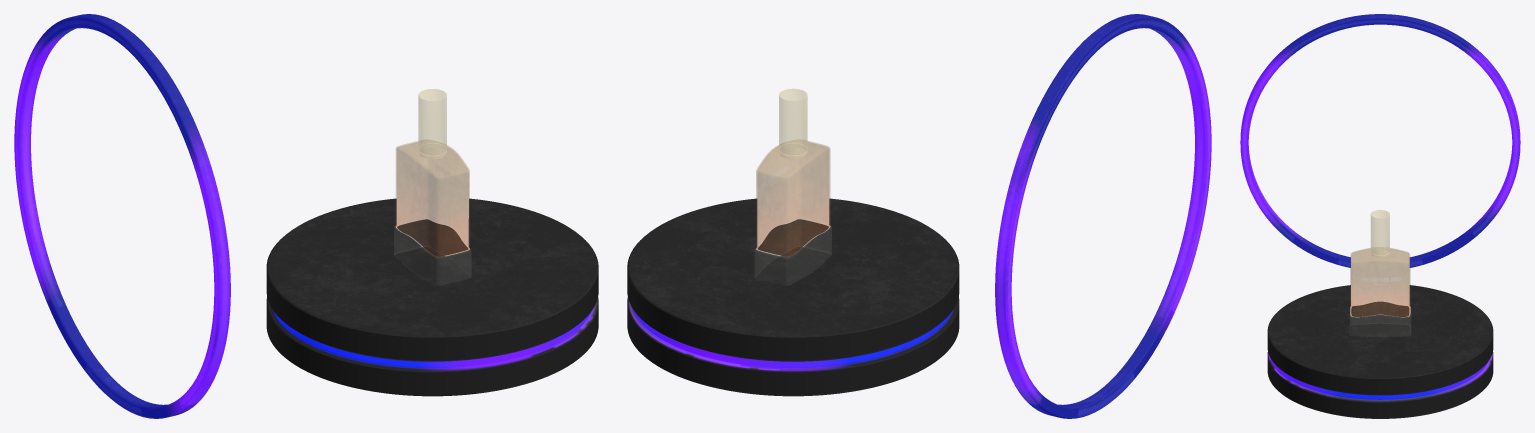
Rendered from neon_showcase_1.glb.
The picture shows the model from 3 angles, left to right: view 1: azimuth 30°, elevation 25°; view 2: azimuth 150°, elevation 25°; view 3: azimuth 270°, elevation 25°; orthographic projection. The views are drawn at different scales.
Parts seen in each view (by area): view 1: Cylinder, Cylinder.001, Cube.001, Cube.003, Cylinder.002; view 2: Cylinder, Cylinder.001, Cube.001, Cube.003, Cylinder.002; view 3: Cylinder, Cylinder.001, Cube.001, Cube.003, Cylinder.002.
Boxes of the visible parts, bbox=[...] form: Cylinder: bbox=[266, 198, 598, 396]; Cylinder.001: bbox=[14, 14, 230, 418]; Cube.001: bbox=[396, 140, 469, 256]; Cube.003: bbox=[394, 219, 471, 285]; Cylinder.002: bbox=[418, 89, 446, 158]; Cylinder: bbox=[627, 198, 959, 396]; Cylinder.001: bbox=[995, 14, 1211, 418]; Cube.001: bbox=[756, 140, 830, 256]; Cube.003: bbox=[755, 219, 831, 285]; Cylinder.002: bbox=[779, 89, 807, 158]; Cylinder: bbox=[1267, 285, 1493, 418]; Cylinder.001: bbox=[1240, 14, 1520, 267]; Cube.001: bbox=[1350, 247, 1410, 316]; Cube.003: bbox=[1350, 302, 1410, 337]; Cylinder.002: bbox=[1370, 210, 1389, 256].
Size of what is drawn, in the model's own units: 13.25 by 10.28 by 10.28.
2 materials, 2 textured.
